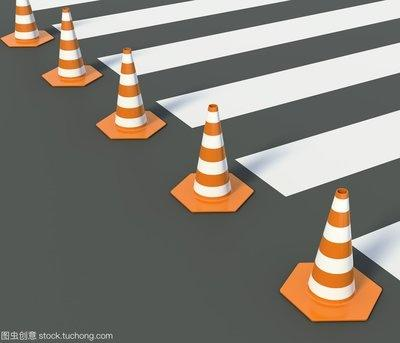cone_barrel: (300, 189, 364, 308), (183, 104, 239, 207), (105, 46, 156, 134), (45, 8, 93, 86)
